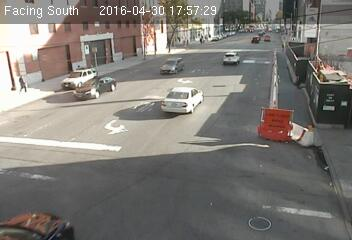neg: (252, 91, 274, 120), (124, 121, 141, 144), (255, 56, 272, 78), (187, 78, 202, 98), (218, 49, 224, 57)
pos: (11, 71, 29, 95), (197, 34, 205, 46)
